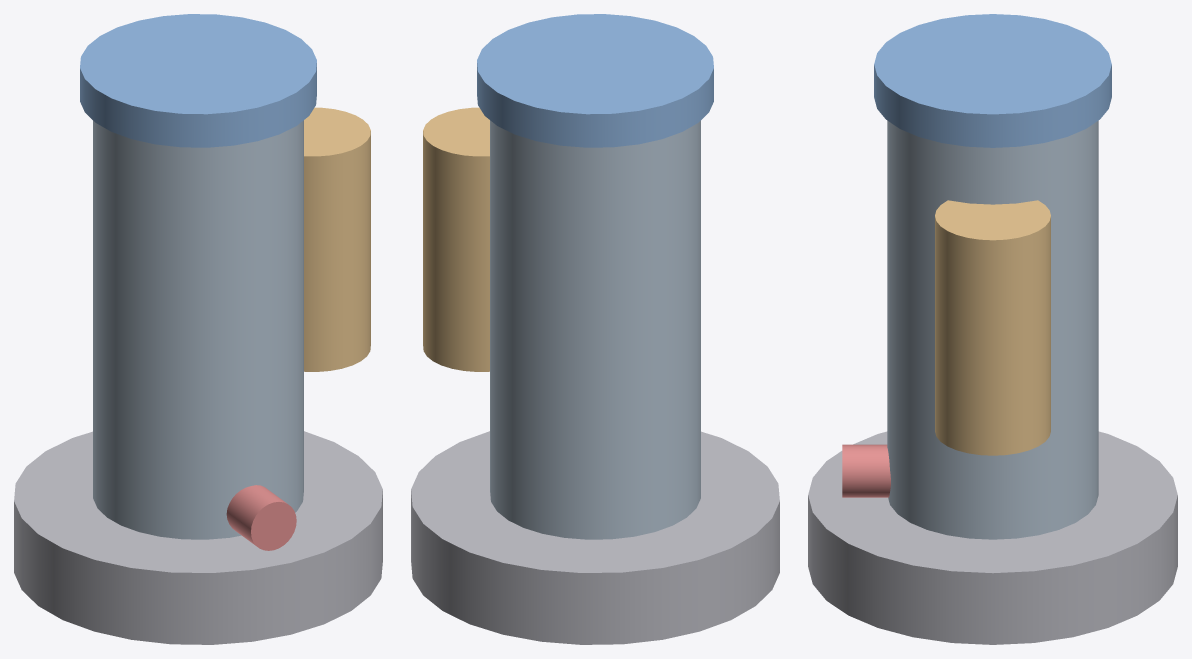
Rendered from unitB.glb.
3 views of the same model, side by side, from view 1: azimuth 30°, elevation 25°; view 2: azimuth 150°, elevation 25°; view 3: azimuth 270°, elevation 25° (orthographic).
Parts seen in each view (by area): view 1: tower, base, top_cover, scrubber, drain_valve; view 2: tower, base, top_cover, scrubber; view 3: tower, base, scrubber, top_cover, drain_valve.
Boxes of the visible parts, x1=… form: tower: x1=93, y1=120, x2=303, y2=539; base: x1=14, y1=431, x2=382, y2=644; top_cover: x1=80, y1=14, x2=316, y2=147; scrubber: x1=304, y1=107, x2=370, y2=371; drain_valve: x1=226, y1=485, x2=296, y2=550; tower: x1=490, y1=120, x2=700, y2=539; base: x1=411, y1=431, x2=779, y2=644; top_cover: x1=477, y1=14, x2=713, y2=147; scrubber: x1=423, y1=107, x2=489, y2=371; tower: x1=887, y1=120, x2=1098, y2=539; base: x1=808, y1=431, x2=1177, y2=644; scrubber: x1=935, y1=200, x2=1050, y2=455; top_cover: x1=874, y1=14, x2=1111, y2=147; drain_valve: x1=842, y1=444, x2=890, y2=497.
Size of the model in its own units: 1.42 by 2.1 by 1.4.
